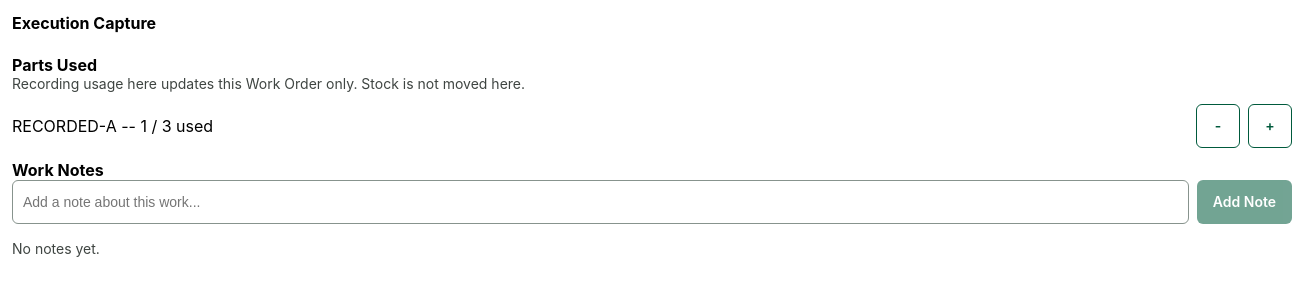
Scenario: ExecutionCapture -- safe error copy (site-work #6) › an error with NO message never renders a blank error box
Click the button "+" at (1270, 126), box [1248, 104, 1292, 148]
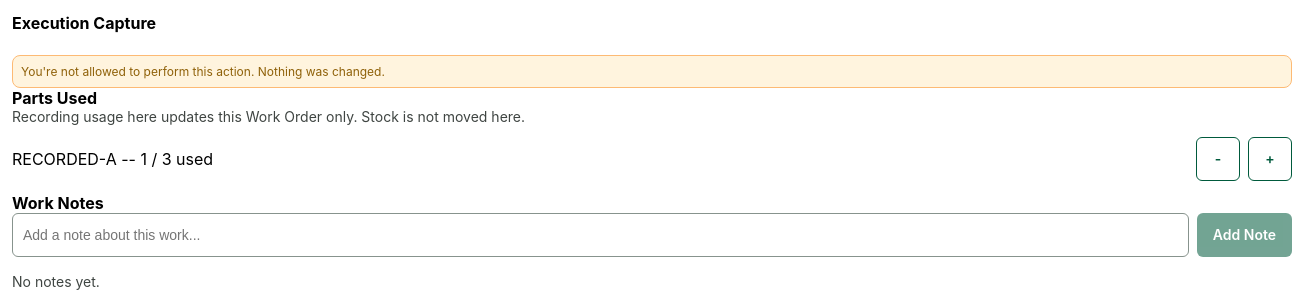
Expected: the message "You're not allowed to perform this action. Nothing was changed." is shown, [12, 54, 1292, 88]
Expected: the message shows "not allowed", [21, 64, 385, 78]
